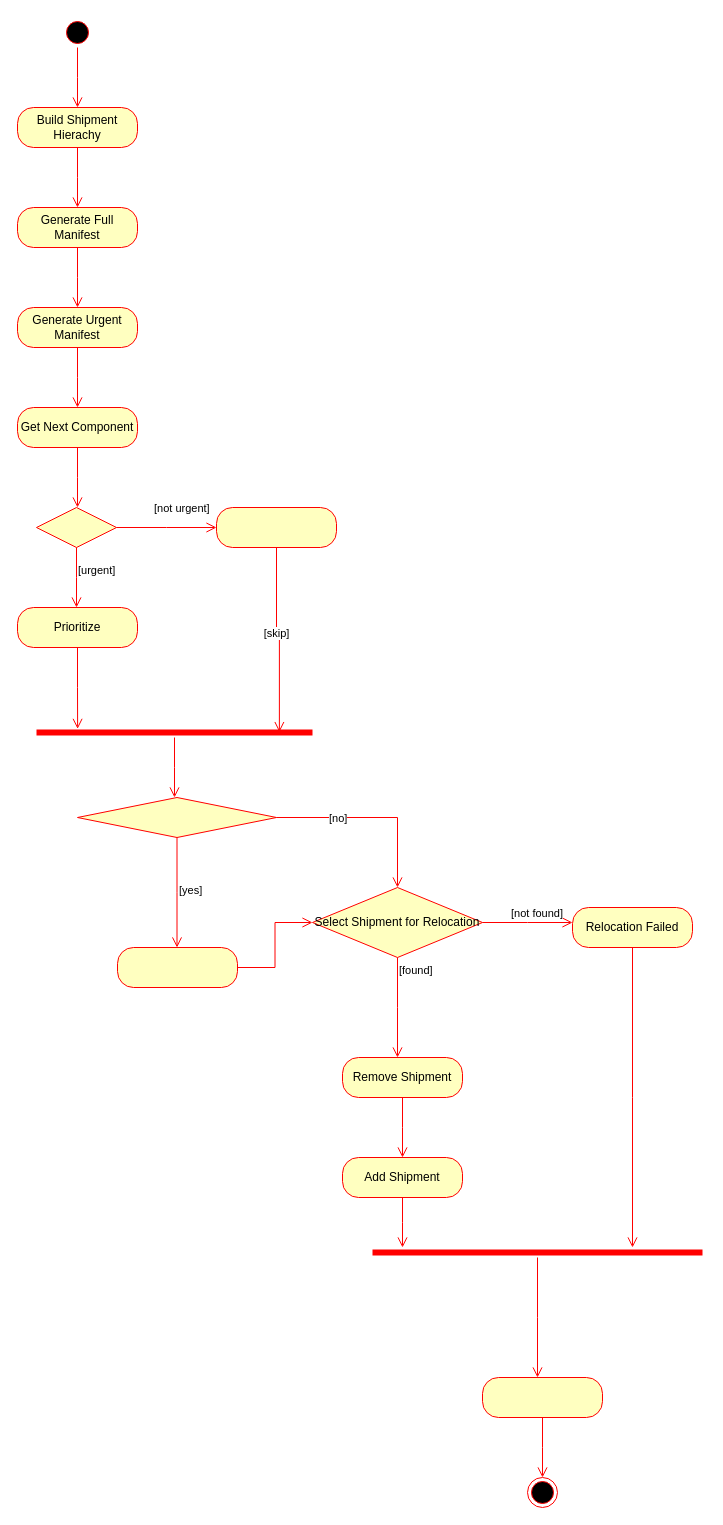
The diagram is 723 pixels wide and 1525 high, and some of its shapes have lost their labels. Here are the shapes that lost their labels. From the top down, the centre of each, then its label:
At pixel 276 527: "Idle".
At pixel 176 817: "More Components?".
At pixel 177 967: "Get Next Components".
At pixel 542 1397: "Generate Final Full Manifest".
